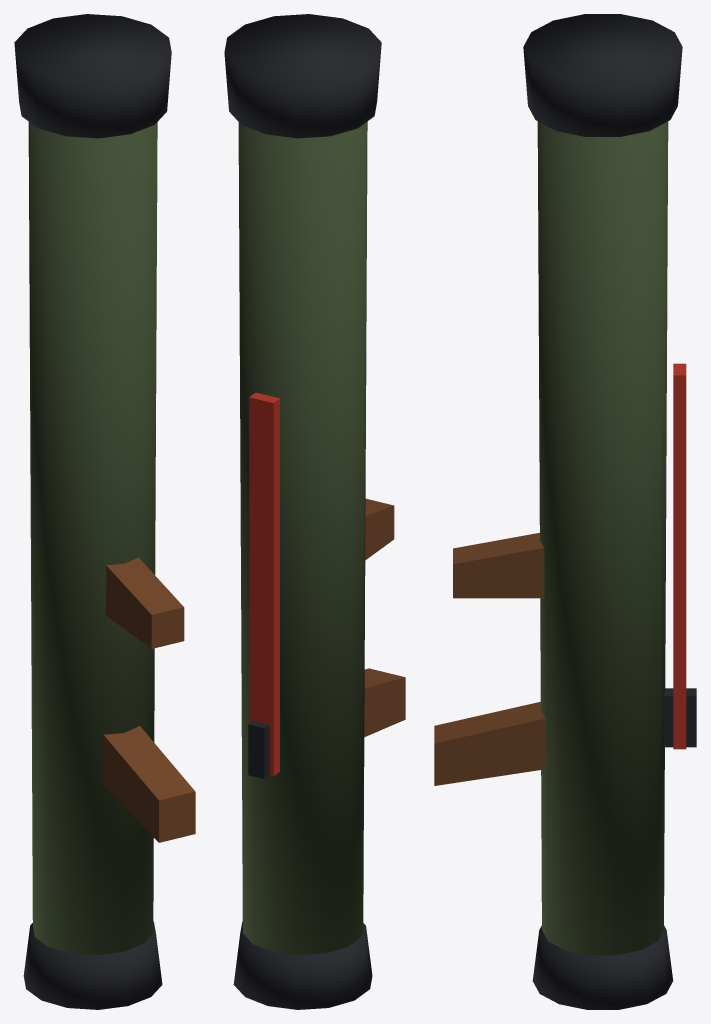
File: rocket_launcher.glb
3 views of the same model, side by side, from view 1: azimuth 30°, elevation 25°; view 2: azimuth 150°, elevation 25°; view 3: azimuth 270°, elevation 25° (orthographic).
Visible parts, largest first — view 1: rocket_launcher_v0; view 2: rocket_launcher_v0; view 3: rocket_launcher_v0.
Boxes of the visible parts, x1,y1,x2,y2 form: rocket_launcher_v0: [14, 14, 195, 1009]; rocket_launcher_v0: [224, 14, 405, 1009]; rocket_launcher_v0: [434, 14, 696, 1009].
Bounding box in the file's own units: 0.1657 × 1.1 × 0.28.
